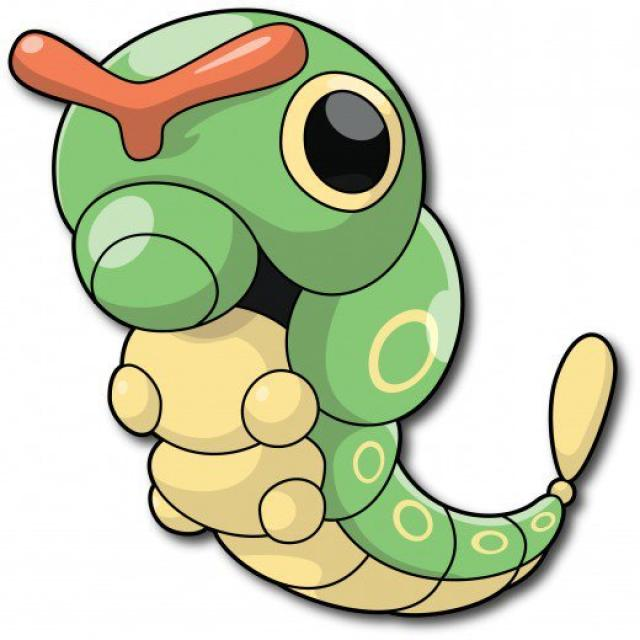Caterpie: (9, 7, 614, 609)
